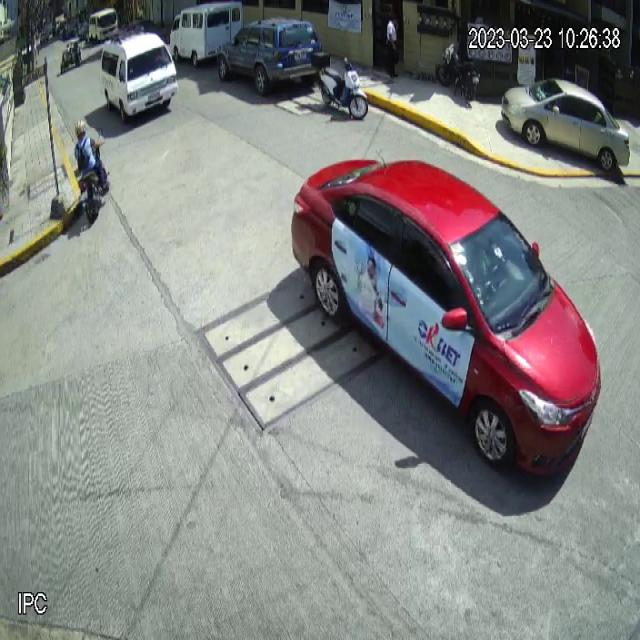Car: (289, 159, 605, 488), (501, 77, 631, 173), (216, 16, 323, 98)
Motorcycle: (311, 51, 368, 120)
Van: (100, 26, 178, 122), (169, 0, 243, 68)
